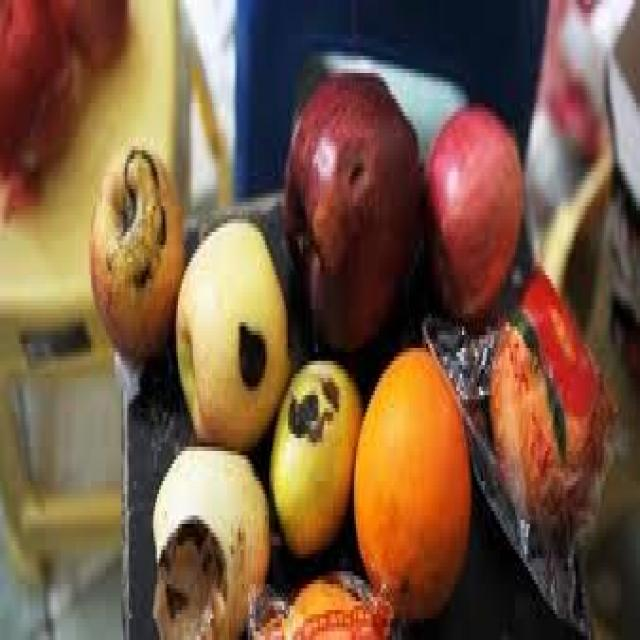organic waste: (280, 73, 420, 357), (351, 335, 472, 623), (172, 215, 290, 451), (486, 292, 596, 520), (151, 442, 269, 636), (87, 129, 182, 361), (424, 99, 519, 322), (265, 352, 362, 558), (0, 0, 78, 206), (278, 571, 375, 636), (68, 0, 123, 60)
